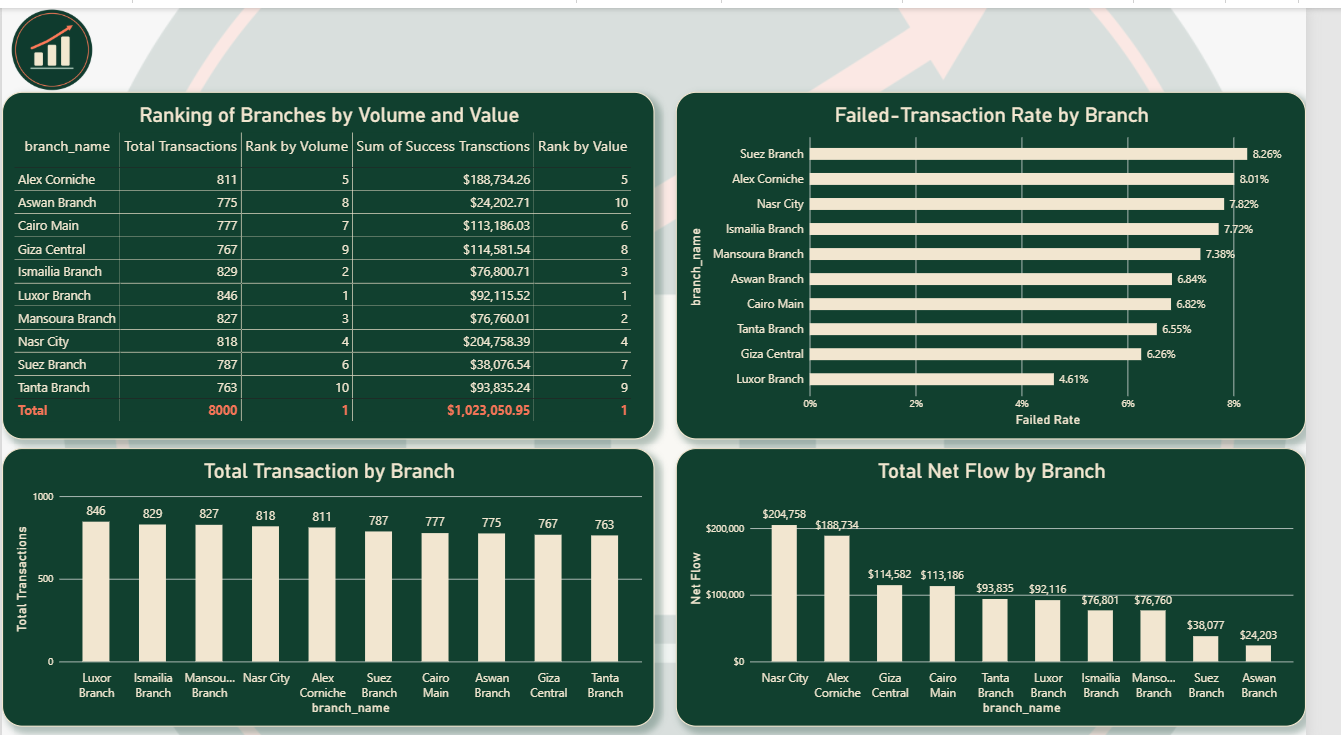

Layout of this report page (visuals, bound fields, positions):
{"tool":"powerbi","page":{"name":"Branch performance","canvas":[1920,1080],"ordinal":3},"visuals":[{"type":"image","box":[0,0,147.2,123.3],"z":0},{"type":"clusteredColumnChart","title":"Total Transaction by Branch","fields":{"Category":["dim_branch.branch_name"],"Y":["\"Measures\".Total Transactions"]},"box":[0,647.9,960.7,410.4],"z":1000},{"type":"clusteredColumnChart","title":"Total Net Flow by Branch","fields":{"Category":["dim_branch.branch_name"],"Y":["\"Measures\".Net Flow"]},"box":[992,647.9,927.6,410.4],"z":2000},{"type":"tableEx","title":"Ranking of Branches by Volume and Value","fields":{"Values":["dim_branch.branch_name","\"Measures\".Total Transactions","\"Measures\".Rank by Volume","\"Measures\".Sum of Success Transctions","\"Measures\".Rank by Value"]},"box":[0,123.3,960.7,511.7],"z":3000},{"type":"clusteredBarChart","title":"Failed-Transaction Rate by Branch","fields":{"Category":["dim_branch.branch_name"],"Y":["\"Measures\".Failed Rate"]},"box":[992,123.3,927.6,511.7],"z":4000}]}

Visuals, with their boxes in screenshot pixels (x1, y1, x2, y2), scaled from the page's 1920x1080 canvas onto the 1341x735 screenshot:
image: [0, 0, 103, 84]
"Total Transaction by Branch" clusteredColumnChart: [0, 441, 671, 720]
"Total Net Flow by Branch" clusteredColumnChart: [693, 441, 1340, 720]
"Ranking of Branches by Volume and Value" tableEx: [0, 84, 671, 432]
"Failed-Transaction Rate by Branch" clusteredBarChart: [693, 84, 1340, 432]
